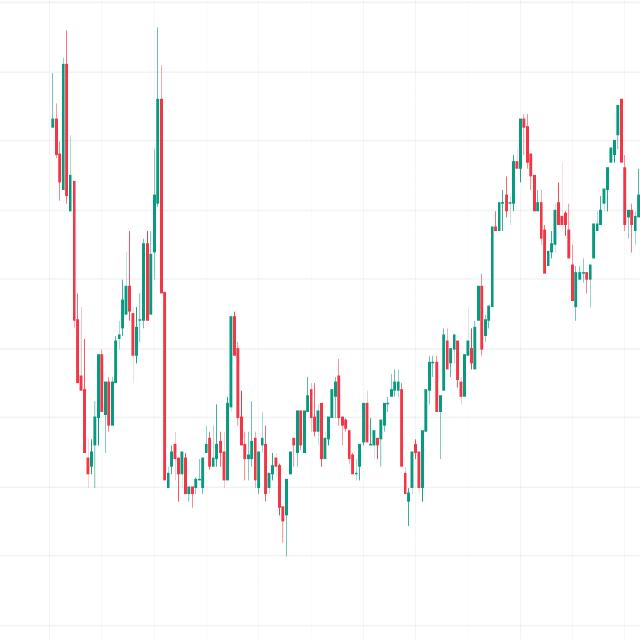Triple-Top: (284, 359, 408, 486)
